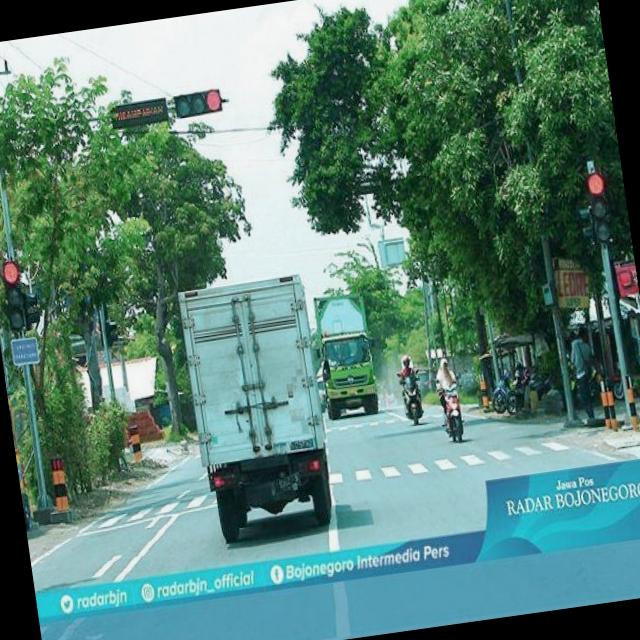Czerwone swiatlo: (584, 168, 612, 248), (173, 87, 226, 121), (3, 262, 27, 332)
